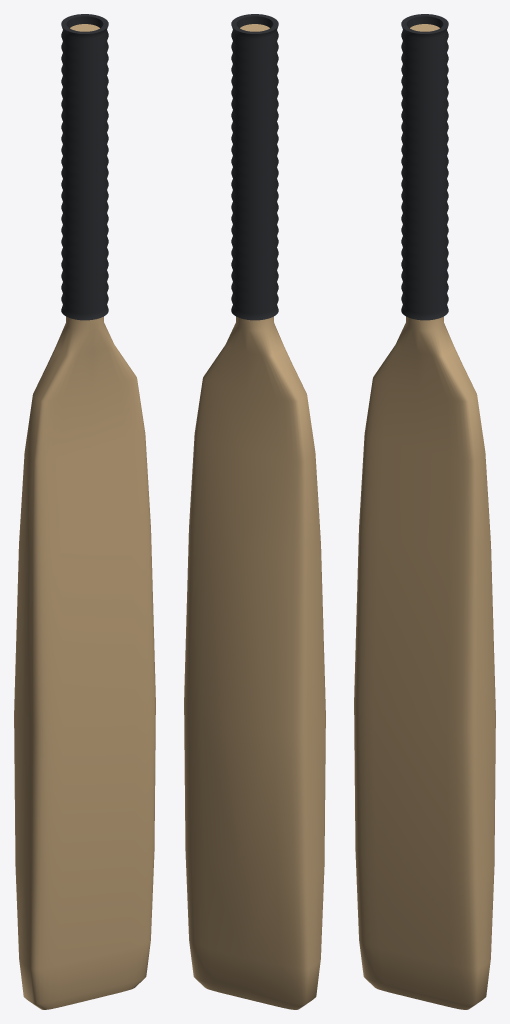
The picture shows the model from 3 angles, left to right: view 1: azimuth 30°, elevation 25°; view 2: azimuth 150°, elevation 25°; view 3: azimuth 330°, elevation 25°; orthographic projection.
Visible parts, largest first — view 1: Flat striking blade with raised rear spine, Closed ribbed rubber grip sleeve; view 2: Flat striking blade with raised rear spine, Closed ribbed rubber grip sleeve; view 3: Flat striking blade with raised rear spine, Closed ribbed rubber grip sleeve.
Part boxes in pixels (<box>): Flat striking blade with raised rear spine: <box>14,24,155,1009</box>; Closed ribbed rubber grip sleeve: <box>61,14,108,320</box>; Flat striking blade with raised rear spine: <box>184,24,325,1009</box>; Closed ribbed rubber grip sleeve: <box>231,14,278,320</box>; Flat striking blade with raised rear spine: <box>354,24,495,1009</box>; Closed ribbed rubber grip sleeve: <box>401,14,448,320</box>.
Bounding box in the file's own units: 0.112 × 0.845 × 0.0558.
